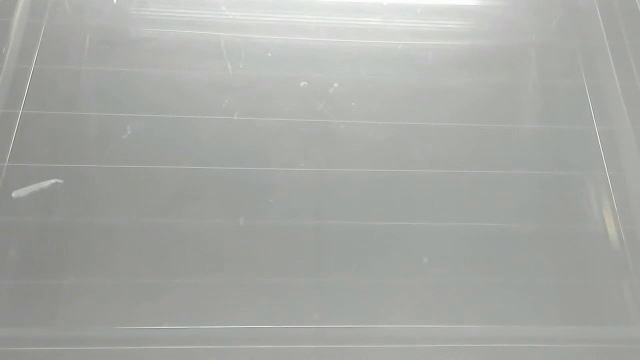alpha: (9, 177, 66, 200)
